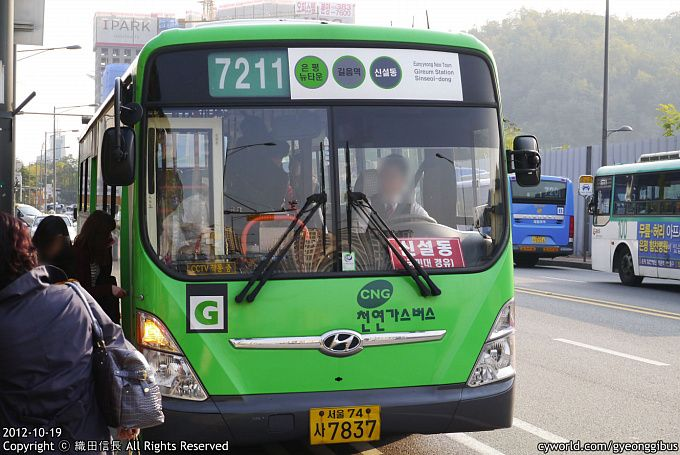bnum: (211, 52, 286, 92)
